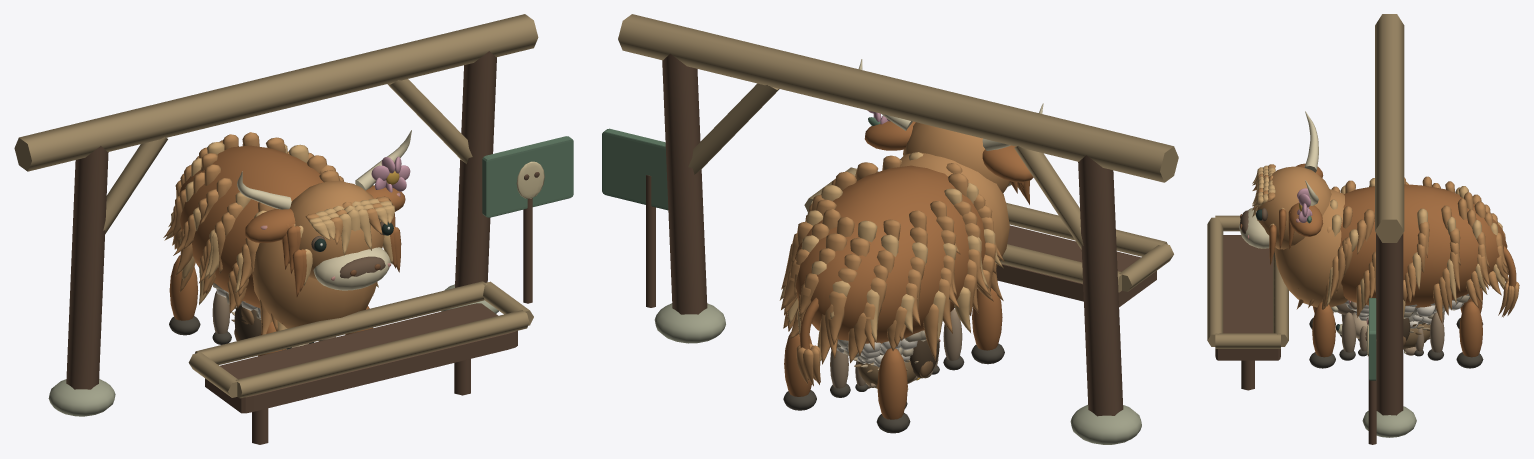
File: farm-animals.glb
3 views of the same model, side by side, from view 1: azimuth 30°, elevation 25°; view 2: azimuth 150°, elevation 25°; view 3: azimuth 270°, elevation 25° (orthographic). The views are drawn at different scales.
Visible parts, largest first — view 1: OwlFeedingPerch-painted-coat, CowHighlandBody-painted-coat, CowHighlandHead-painted-coat, CowHighlandLegBackLeft-painted-coat, CowHighlandGirlHead-painted-coat, SheepLegBackLeft-painted-coat, OwlWingLeft-painted-coat; view 2: OwlFeedingPerch-painted-coat, CowHighlandBody-painted-coat, CowHighlandHead-painted-coat, CowHighlandLegBackLeft-painted-coat, CowHighlandLegFrontLeft-painted-coat, CowHighlandLegBackRight-painted-coat, CowHighlandTail-painted-coat, SheepLegFrontLeft-painted-coat, SheepBody-painted-coat, SheepLegBackRight-painted-coat, OwlWingLeft-painted-coat, HedgehogBody-painted-coat; view 3: OwlFeedingPerch-painted-coat, CowHighlandBody-painted-coat, CowHighlandHead-painted-coat, CowHighlandLegBackRight-painted-coat, CowHighlandLegFrontRight-painted-coat, CowHighlandTail-painted-coat, SheepBody-painted-coat, SheepLegFrontRight-painted-coat, SheepLegBackRight-painted-coat, CowHighlandGirlHead-painted-coat, HedgehogBody-painted-coat, LambBody-painted-coat.
Part boxes in pixels (x1,y1,x2,y2): OwlFeedingPerch-painted-coat: (14,14,573,444); CowHighlandBody-painted-coat: (163,132,378,349); CowHighlandHead-painted-coat: (237,130,411,297); CowHighlandLegBackLeft-painted-coat: (169,255,200,335); CowHighlandGirlHead-painted-coat: (371,156,410,192); SheepLegBackLeft-painted-coat: (212,291,231,344); OwlWingLeft-painted-coat: (234,304,261,340); OwlFeedingPerch-painted-coat: (602,14,1178,444); CowHighlandBody-painted-coat: (779,152,1009,364); CowHighlandHead-painted-coat: (858,59,1043,204); CowHighlandLegBackLeft-painted-coat: (876,348,910,433); CowHighlandLegFrontLeft-painted-coat: (971,288,1004,364); CowHighlandLegBackRight-painted-coat: (783,332,816,410); CowHighlandTail-painted-coat: (796,297,820,386); SheepLegFrontLeft-painted-coat: (943,309,964,370); SheepBody-painted-coat: (836,330,926,359); SheepLegBackRight-painted-coat: (830,350,850,397); OwlWingLeft-painted-coat: (910,331,940,378); HedgehogBody-painted-coat: (853,358,918,388); OwlFeedingPerch-painted-coat: (1207,14,1416,444); CowHighlandBody-painted-coat: (1274,176,1508,323); CowHighlandHead-painted-coat: (1239,111,1331,265); CowHighlandLegBackRight-painted-coat: (1456,301,1483,368); CowHighlandLegFrontRight-painted-coat: (1309,302,1335,368); CowHighlandTail-painted-coat: (1498,246,1519,317); SheepBody-painted-coat: (1344,294,1470,318); SheepLegFrontRight-painted-coat: (1339,312,1356,360); SheepLegBackRight-painted-coat: (1427,312,1444,360); CowHighlandGirlHead-painted-coat: (1297,188,1312,223); HedgehogBody-painted-coat: (1403,321,1430,349); LambBody-painted-coat: (1354,309,1444,328).
Bounding box in the file's own units: 4.57 × 2.31 × 2.76.
